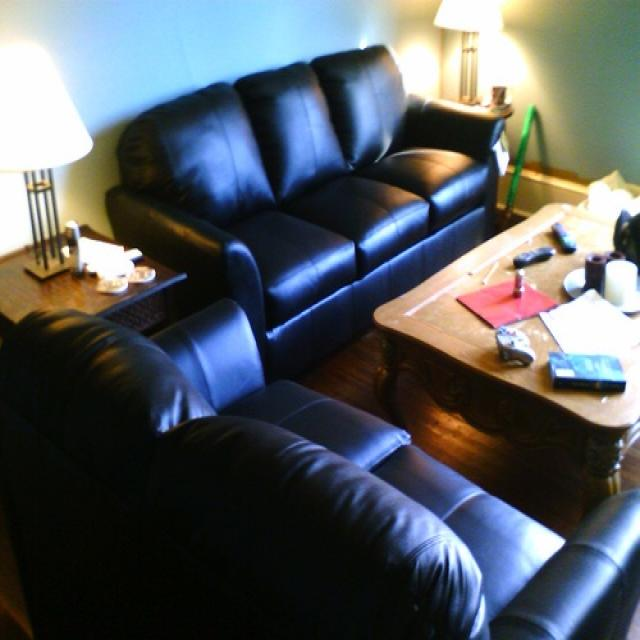sofa: (6, 288, 639, 638), (101, 41, 512, 378)
